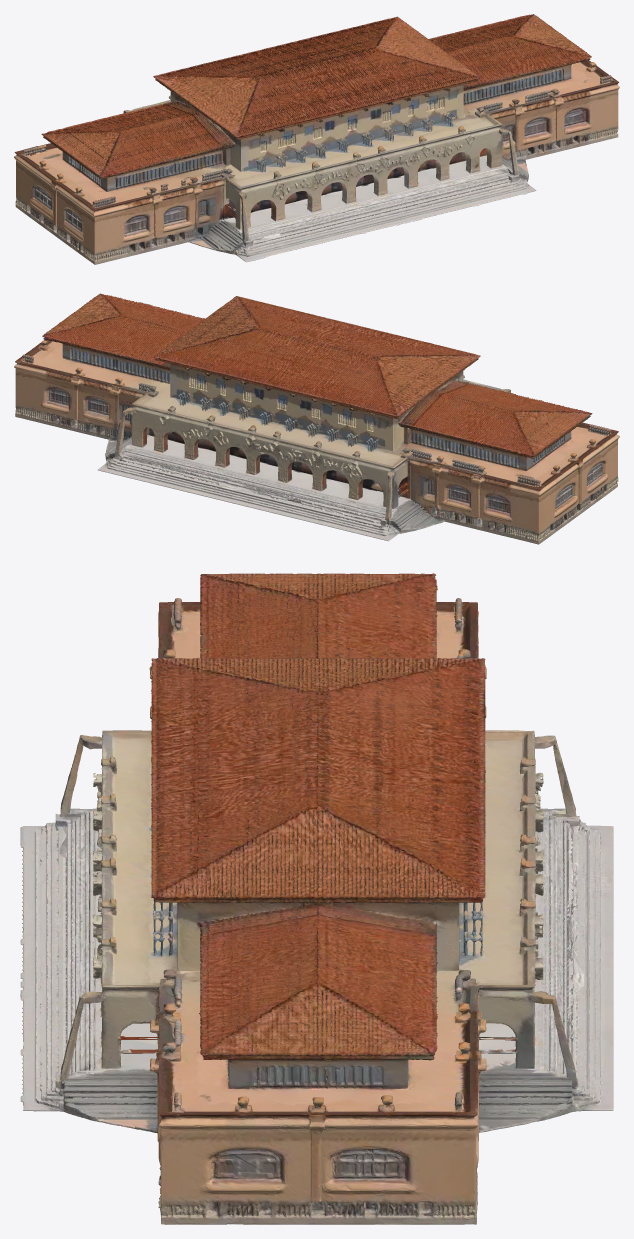
The model's file is intendencia_draco.glb.
The picture shows the model from 3 angles, top to bottom: view 1: azimuth 30°, elevation 25°; view 2: azimuth 150°, elevation 25°; view 3: azimuth 270°, elevation 25°; orthographic projection. The views are drawn at different scales.
Parts seen in each view (by area): view 1: tmpxdzz4jdq.obj; view 2: tmpxdzz4jdq.obj; view 3: tmpxdzz4jdq.obj.
Part boxes in pixels (x1,y1,x2,y2): tmpxdzz4jdq.obj: (14,14,619,264); tmpxdzz4jdq.obj: (14,293,619,544); tmpxdzz4jdq.obj: (20,573,613,1224).
Size of the model in its own units: 1.87 by 0.3726 by 0.9075.
Materials: 1 (1 with a texture image).
